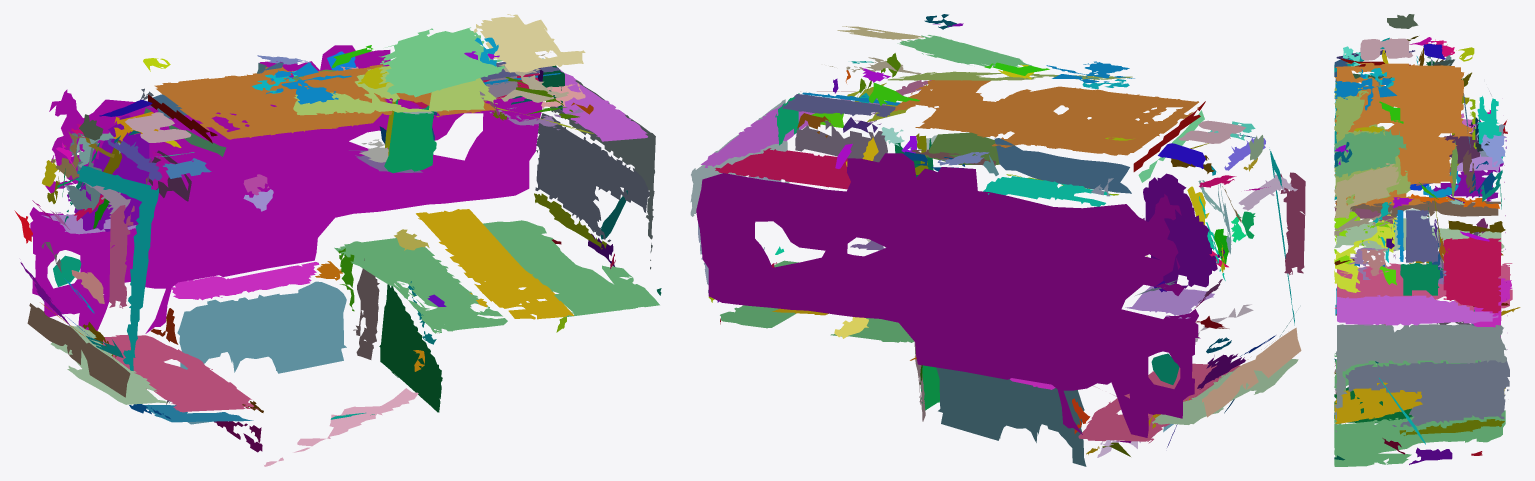
Rendered from airplanes_scene057.glb.
The picture shows the model from 3 angles, left to right: view 1: azimuth 30°, elevation 25°; view 2: azimuth 150°, elevation 25°; view 3: azimuth 270°, elevation 25°; orthographic projection. The views are drawn at different scales.
Size of the model in its own units: 7.4 by 4.73 by 2.59.
